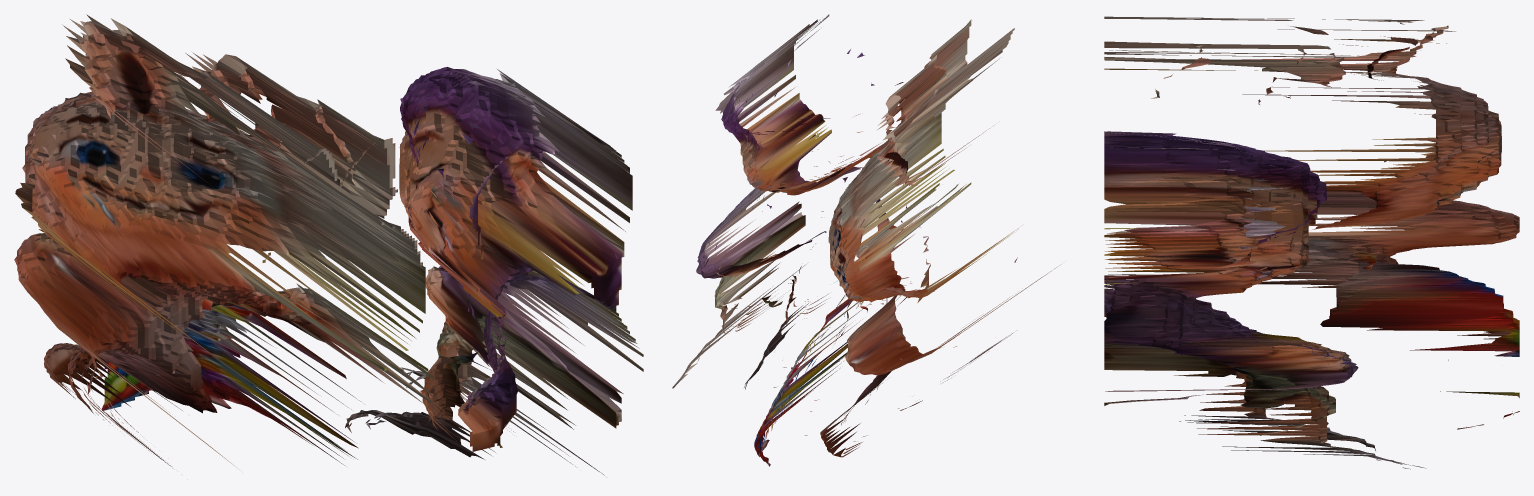
Rendered from frame_00412.glb.
3 renders of one model, left to right at view 1: azimuth 30°, elevation 25°; view 2: azimuth 150°, elevation 25°; view 3: azimuth 270°, elevation 25°, orthographic. The views are drawn at different scales.
Parts seen in each view (by area): view 1: geometry_0; view 2: geometry_0; view 3: geometry_0.
Boxes of the visible parts, x1,y1,x2,y2 form: geometry_0: (14,14,643,475); geometry_0: (672,14,1061,466); geometry_0: (1104,16,1519,469).
Size of the model in its own units: 0.1466 by 0.1576 by 0.16.
Materials: 1 (1 with a texture image).
